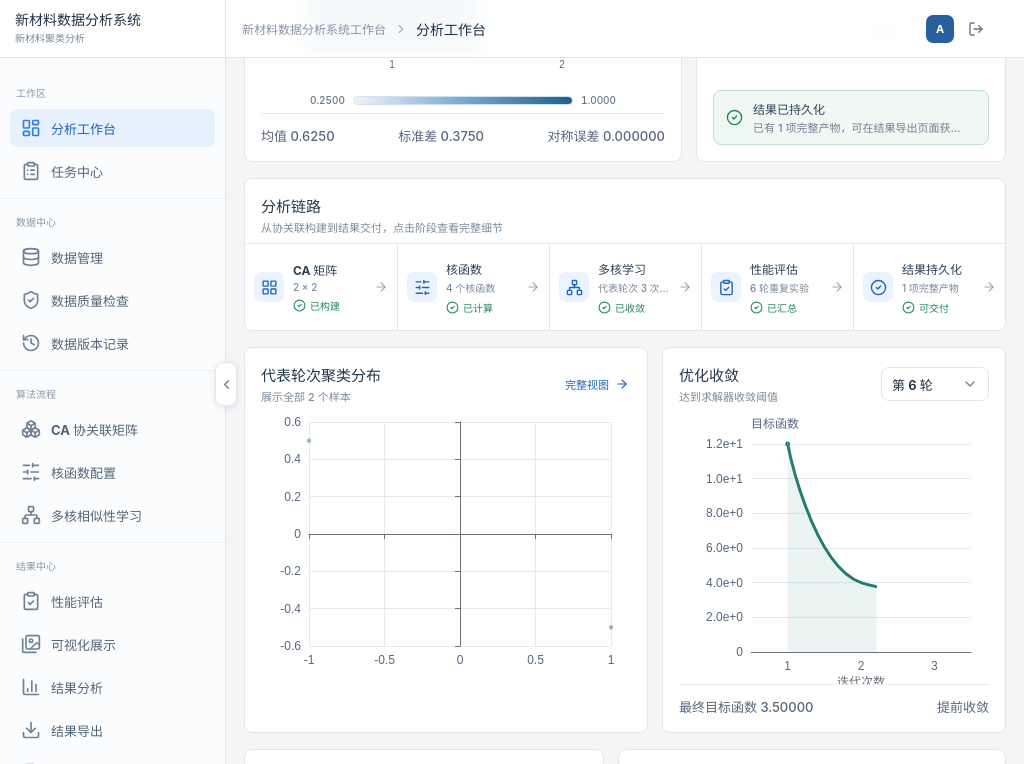
dashboard homepage › switches convergence runs and keeps the selected task when opening a detail page
(page scrolled)
Step 1. Click the dropdown named "选择运行轮次" → point(935, 384), box [881,367,989,401]
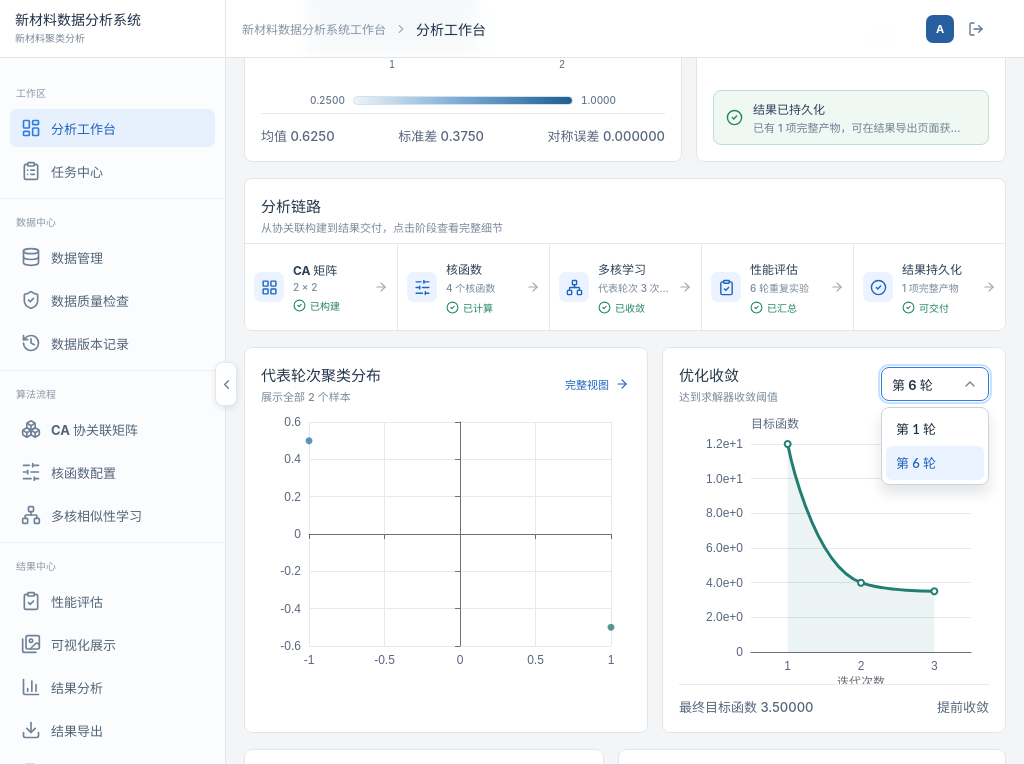
Step 2. Click the option "第 1 轮" → point(916, 429), box [896,421,936,437]
(page scrolled)
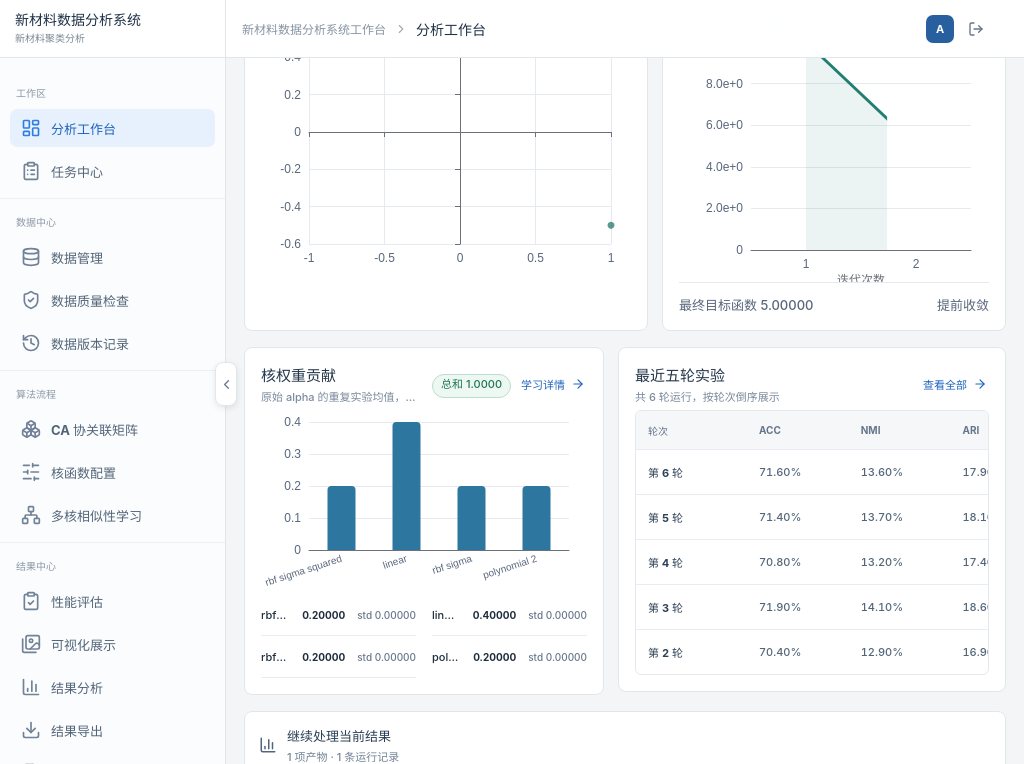
expect the text "最终目标函数 5.00000" is shown: met, box [679,295,813,314]
Step 3. Click the button "查看全部" → point(955, 384), box [921,371,989,397]
(page scrolled)
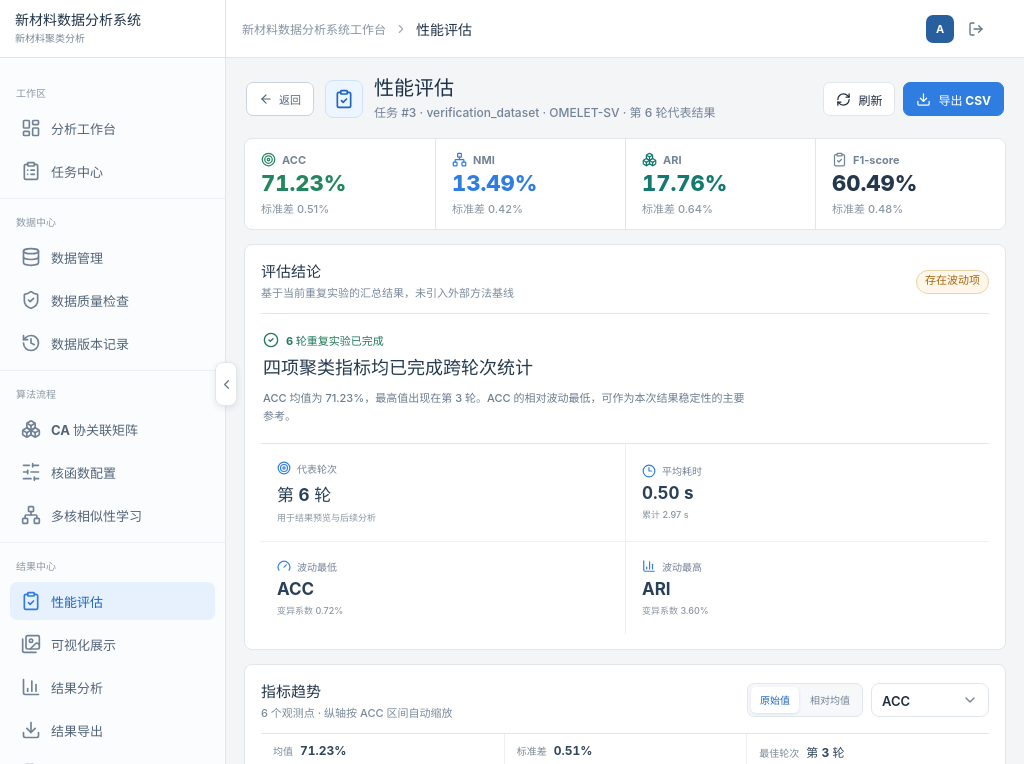
expect the heading "性能评估" is shown: met, box [374,76,454,101]
expect the button "返回" is shown: met
Step 4. Click the button "返回" → point(280, 99), box [246,82,314,116]
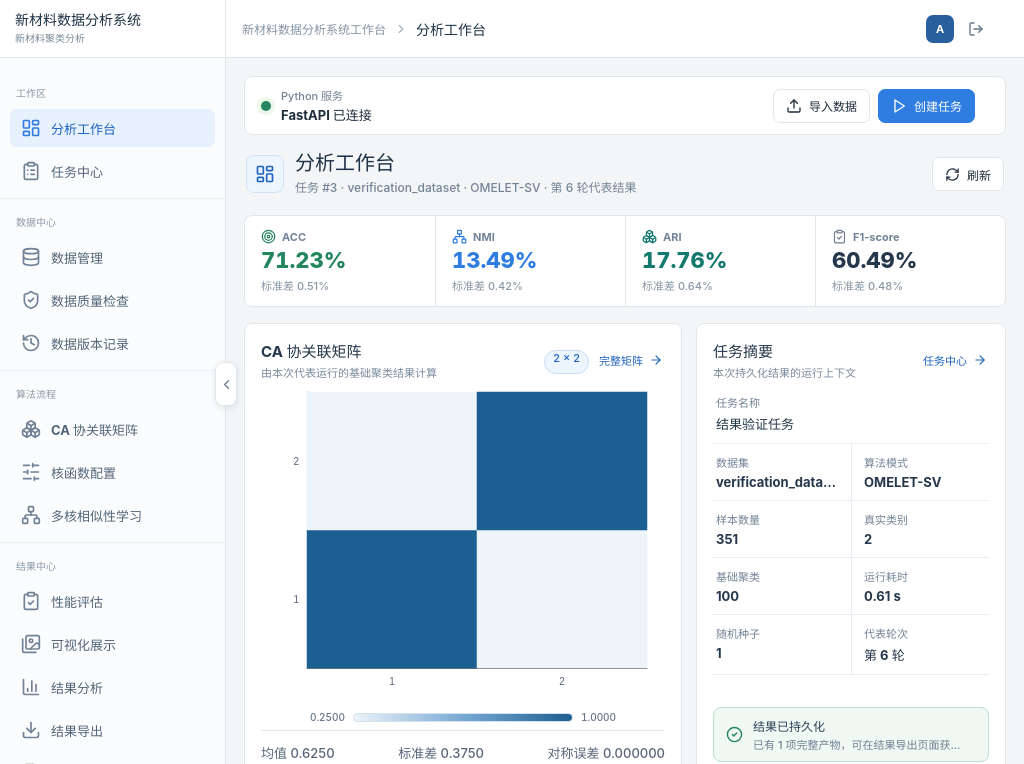
expect the heading "分析工作台" is shown: met, box [295,151,395,176]
